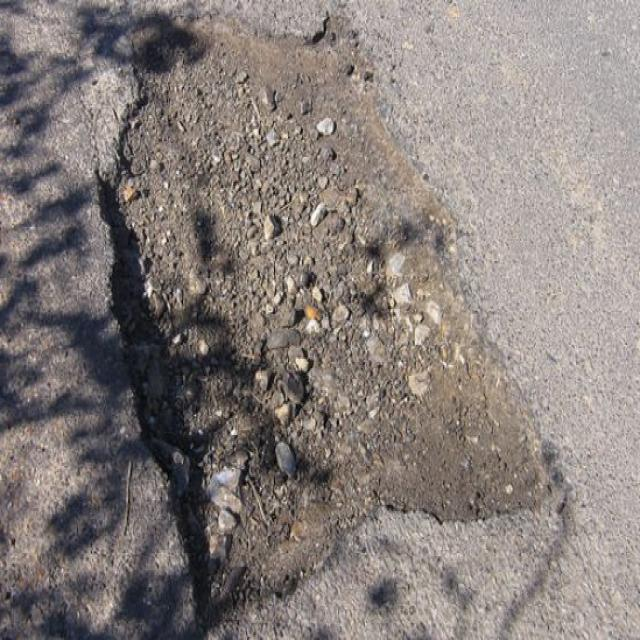Pothole: (97, 3, 574, 635)
